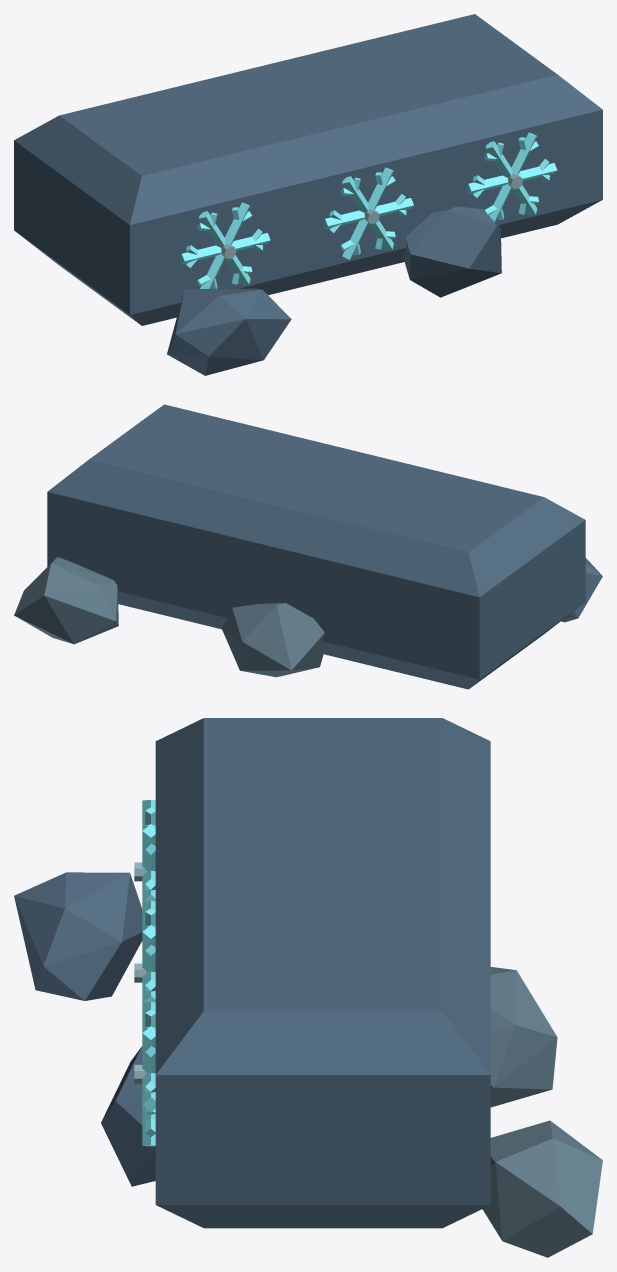
The model's file is decor_5.fbx.
3 views of the same model, one above another, from view 1: azimuth 30°, elevation 25°; view 2: azimuth 150°, elevation 25°; view 3: azimuth 270°, elevation 25° (orthographic). The views are drawn at different scales.
Parts seen in each view (by area): view 1: decor_5; view 2: decor_5; view 3: decor_5.
Part boxes in pixels (<box>): decor_5: <box>14,14,602,375</box>; decor_5: <box>14,404,602,689</box>; decor_5: <box>14,718,602,1257</box>.
Size of the model in its own units: 1.65 by 0.5815 by 1.23.
